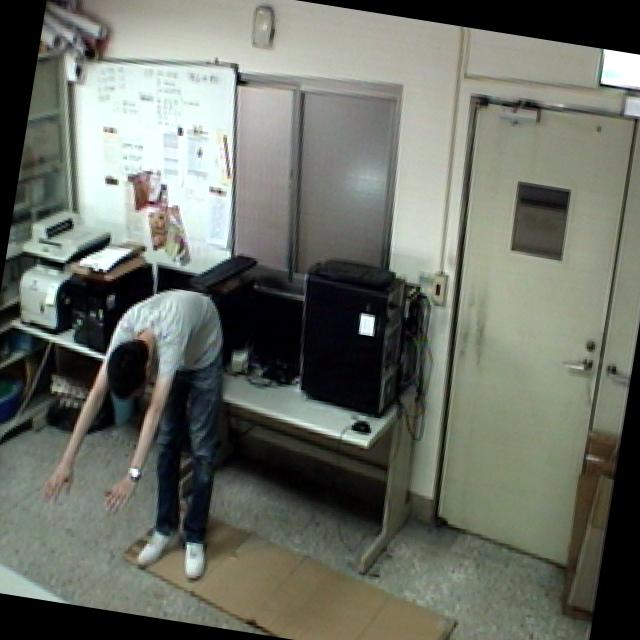bend: (32, 268, 253, 590)
